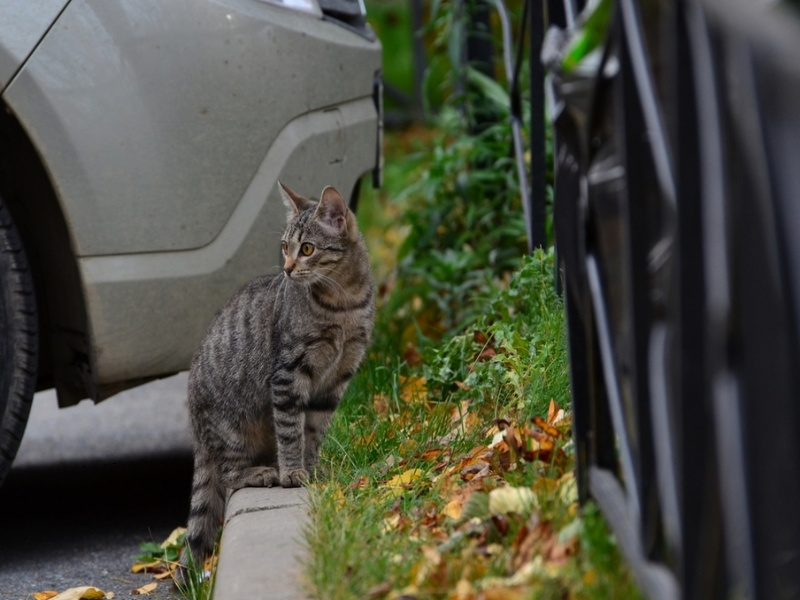cat: (168, 179, 379, 593)
